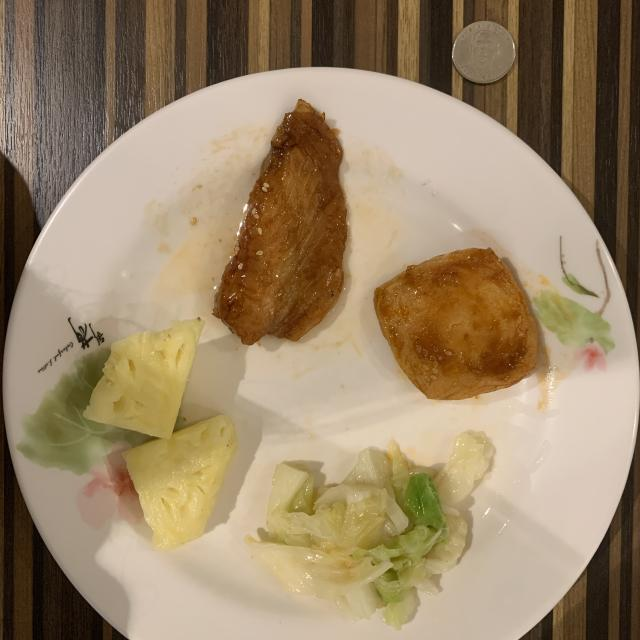Kabayaki sea bream fillet: (214, 100, 348, 345)
cabbage: (246, 431, 494, 629)
coin: (452, 21, 515, 84)
creamy tofu: (374, 249, 538, 400)
pineapple: (84, 319, 238, 549)
